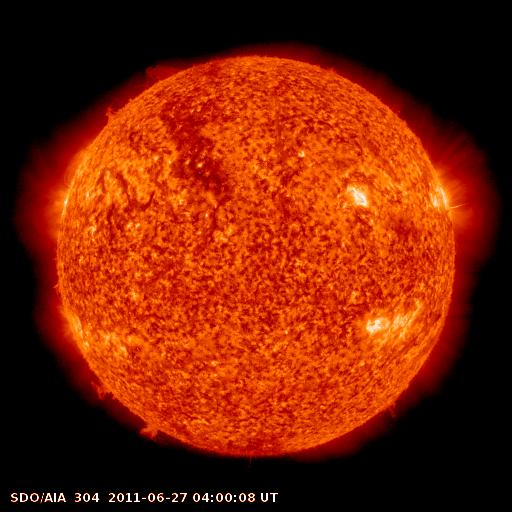prominence: (97, 63, 192, 123), (80, 370, 126, 410), (128, 413, 167, 448)
